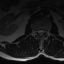CCS_normal: (39, 26, 42, 38)
LFS_normal: (44, 27, 47, 35)
LLS_normal: (42, 27, 44, 36)
RFS_stenosis: (34, 27, 37, 35)
RLS_normal: (37, 27, 39, 35)
